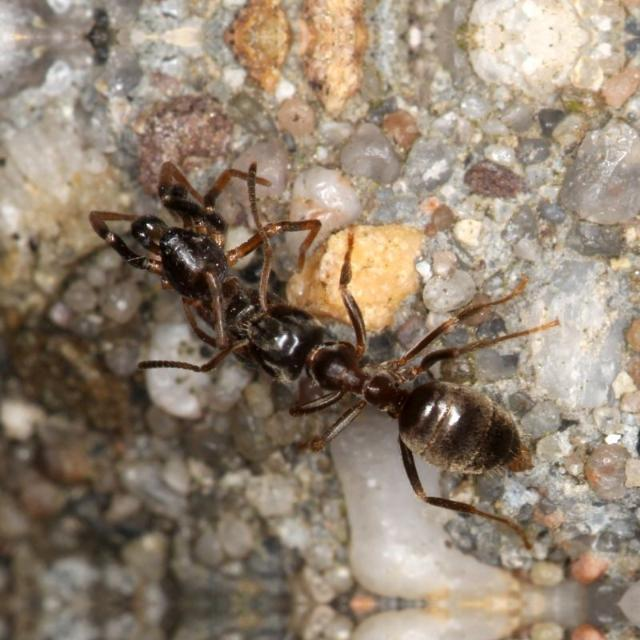Lasius: (228, 264, 586, 502)
